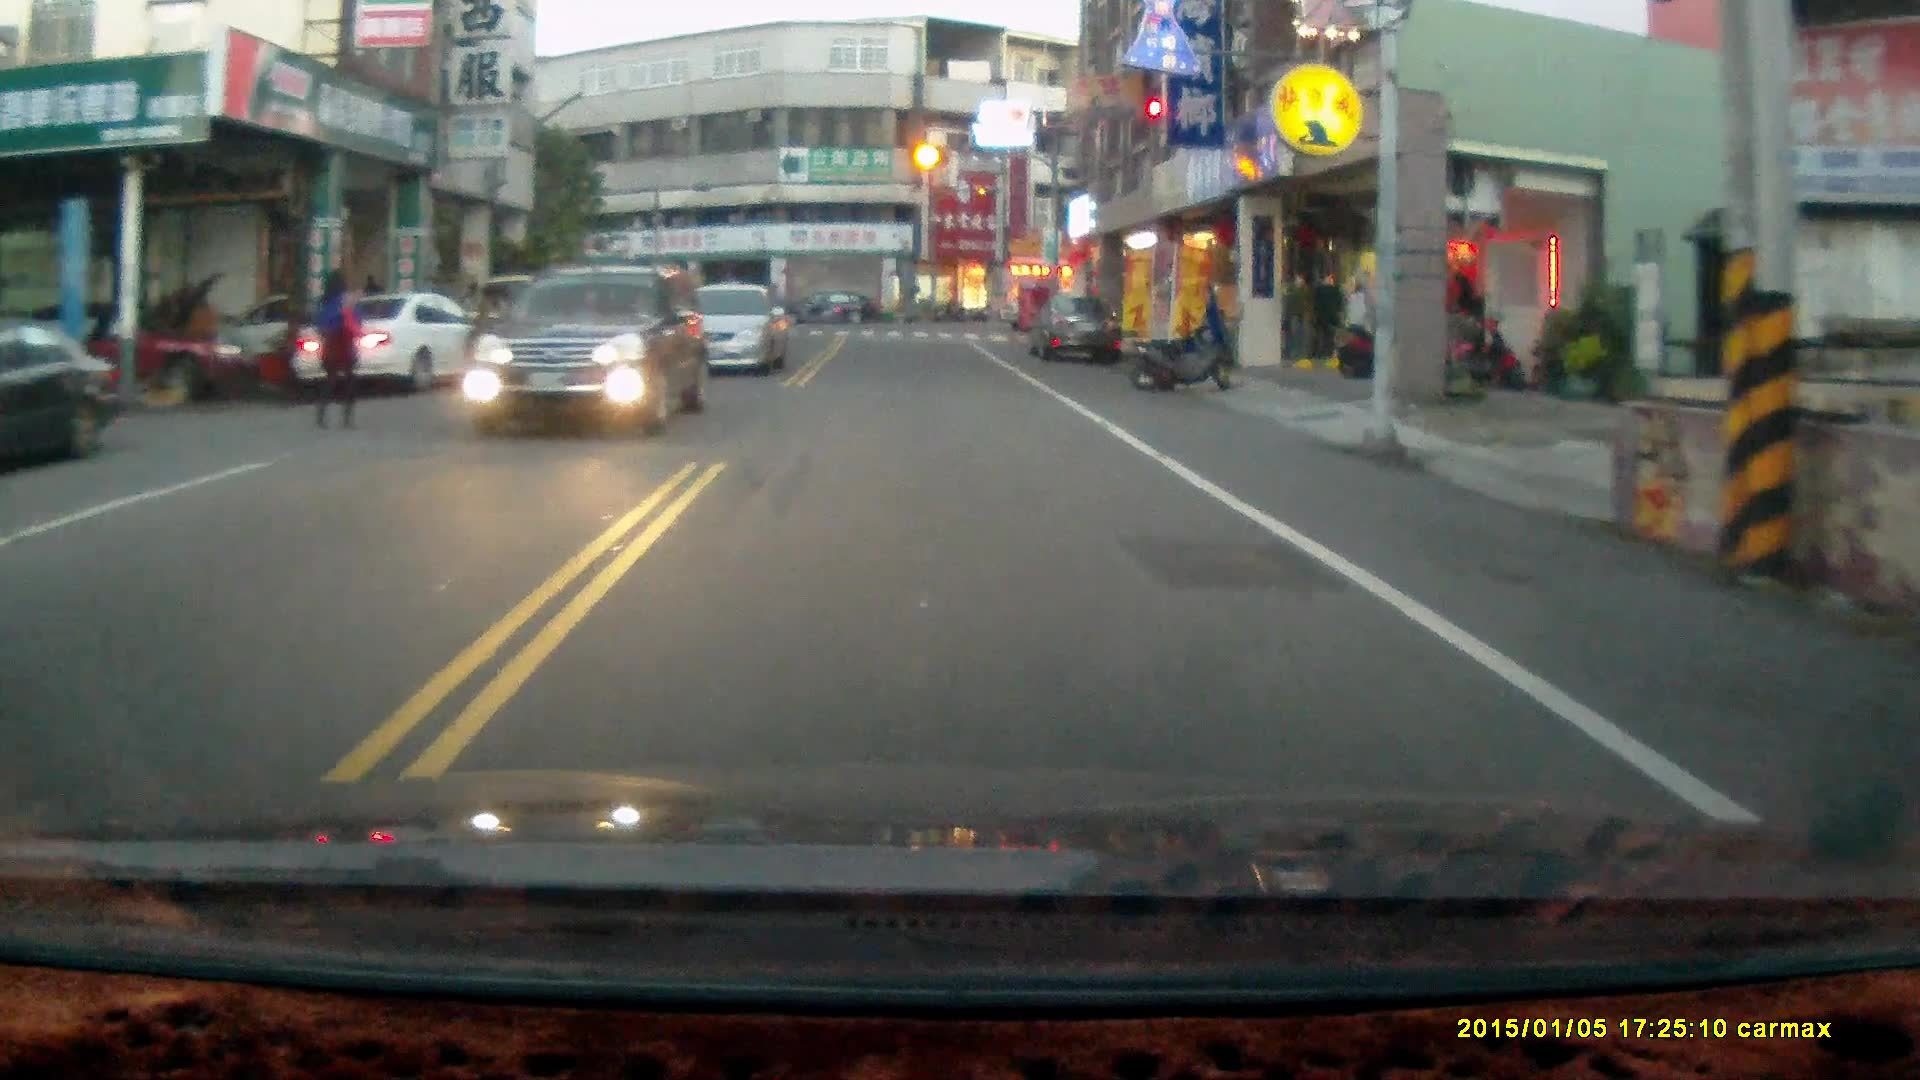pedestrian: (311, 264, 359, 431), (460, 280, 503, 388)
vehicle: (473, 262, 711, 436), (287, 292, 518, 398), (1, 317, 129, 460), (663, 279, 790, 375), (1029, 291, 1130, 370), (782, 289, 885, 330)
